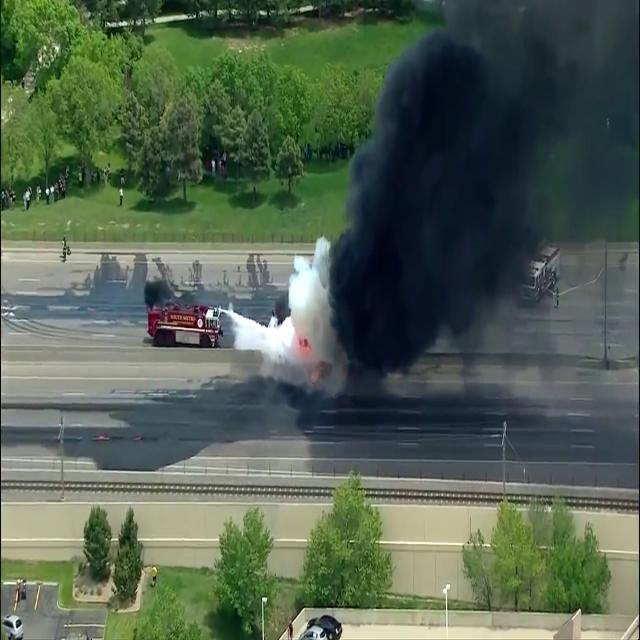Smoke: (351, 1, 628, 413), (268, 237, 352, 406)
